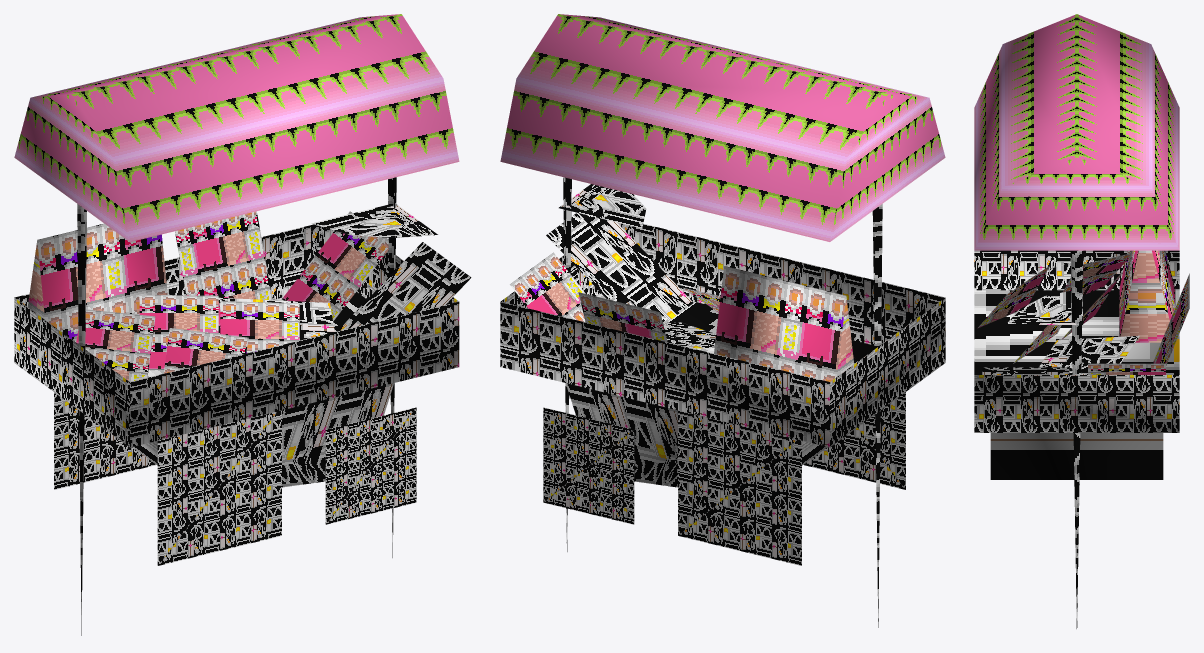
3 views of the same model, side by side, from view 1: azimuth 30°, elevation 25°; view 2: azimuth 150°, elevation 25°; view 3: azimuth 270°, elevation 25° (orthographic). The views are drawn at different scales.
Parts seen in each view (by area): view 1: 3792kg_sh1_15; view 2: 3792kg_sh1_15; view 3: 3792kg_sh1_15.
Part boxes in pixels (bbox=[...]): 3792kg_sh1_15: bbox=[14, 14, 471, 635]; 3792kg_sh1_15: bbox=[500, 14, 945, 627]; 3792kg_sh1_15: bbox=[974, 14, 1189, 628].
Bounding box in the file's own units: 1.6 × 2.42 × 0.9705.
3 materials, 3 textured.
